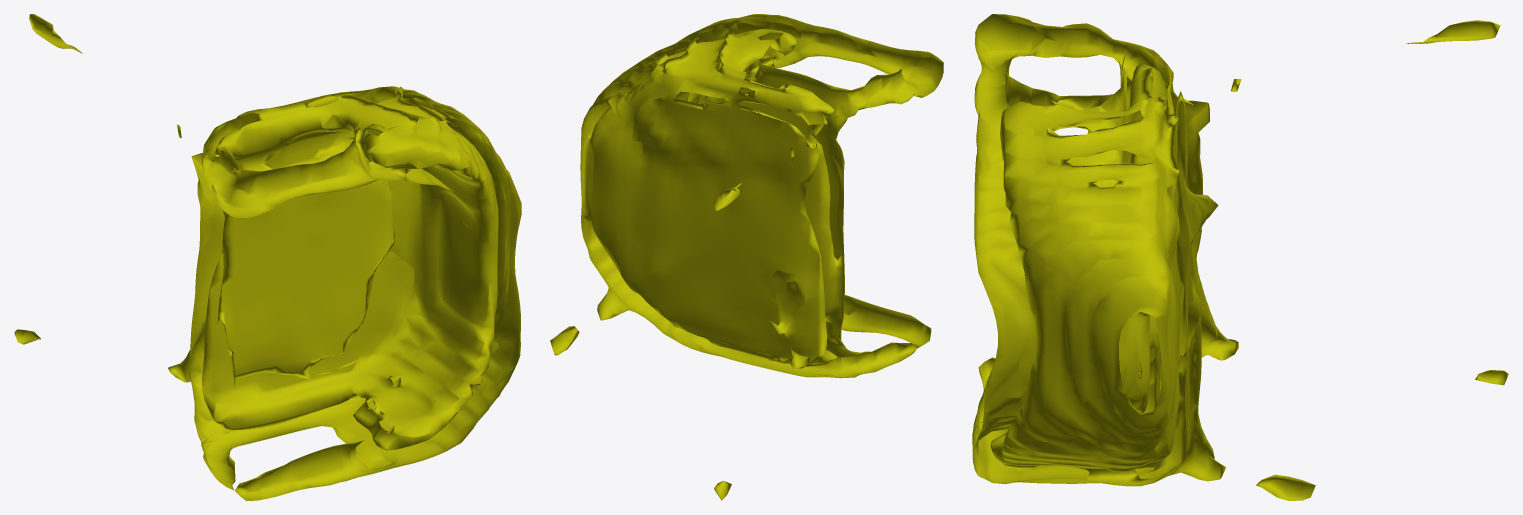
The picture shows the model from 3 angles, left to right: view 1: azimuth 30°, elevation 25°; view 2: azimuth 150°, elevation 25°; view 3: azimuth 270°, elevation 25°; orthographic projection. The views are drawn at different scales.
Visible parts, largest first — view 1: world; view 2: world; view 3: world.
Part boxes in pixels (box(x1,y1,x2,y2)): world: box(14, 14, 521, 500); world: box(550, 14, 943, 500); world: box(972, 14, 1508, 500).
Bounding box in the file's own units: 31.59 × 30.91 × 39.83.
